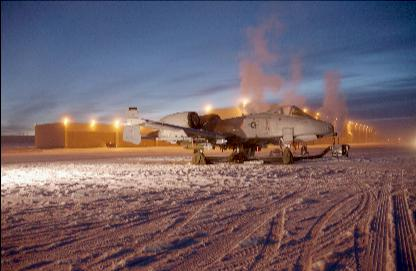A10: (116, 104, 336, 164)
